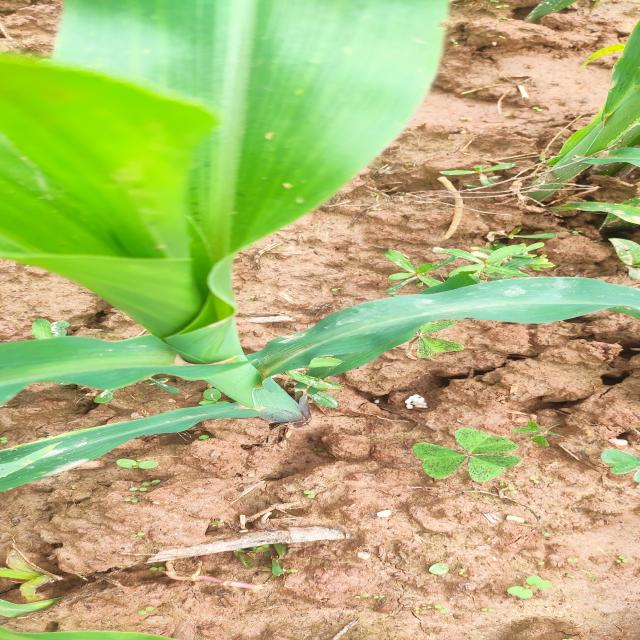maize: (0, 0, 639, 410), (514, 0, 640, 172)
weed: (344, 222, 604, 282), (375, 436, 540, 475), (560, 445, 640, 480), (488, 568, 560, 599)
